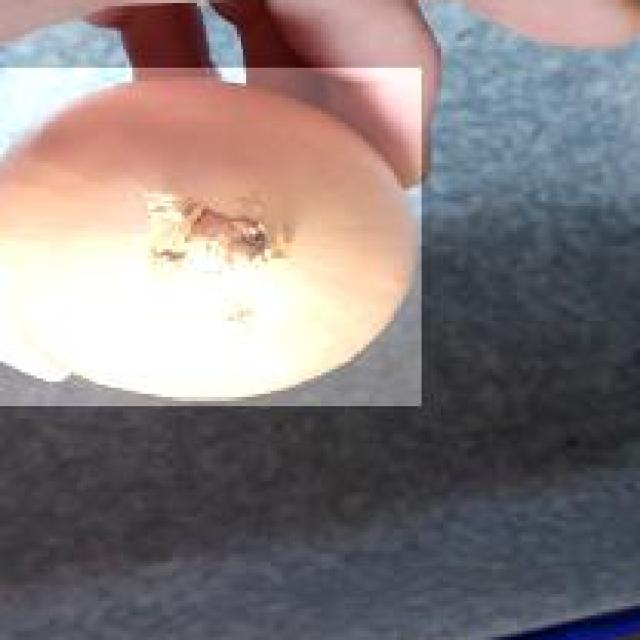onion: (0, 68, 425, 409)
